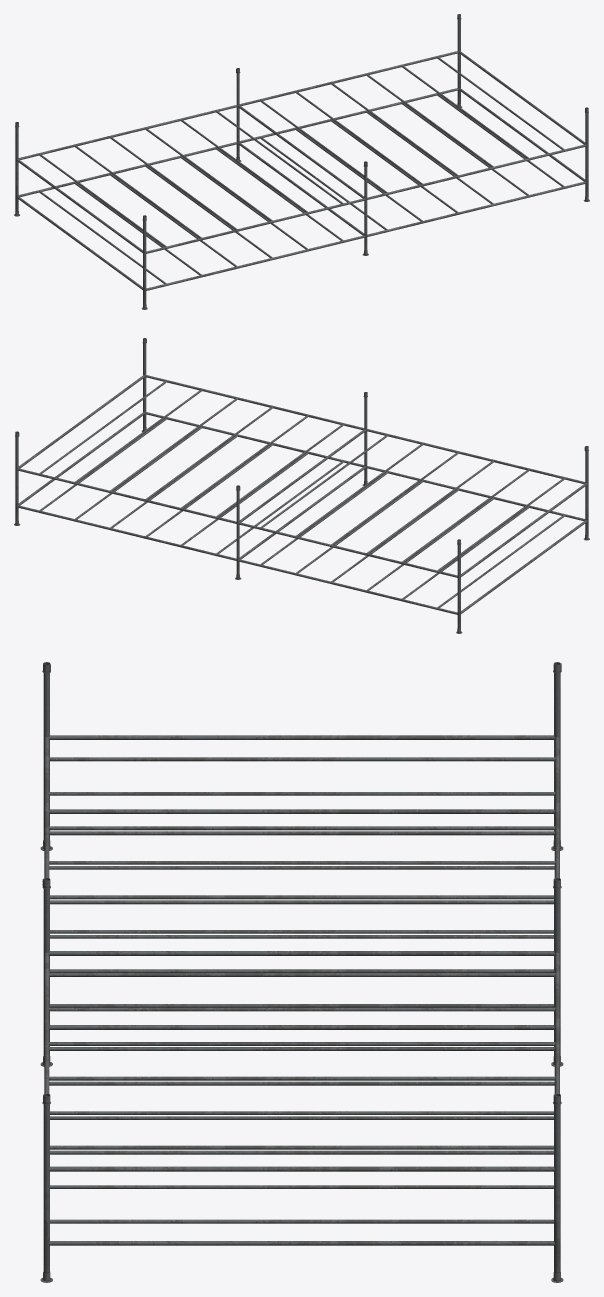
The model's file is SM_MetalPipe_Cage.fbx.
The picture shows the model from 3 angles, top to bottom: view 1: azimuth 30°, elevation 25°; view 2: azimuth 150°, elevation 25°; view 3: azimuth 270°, elevation 25°; orthographic projection. The views are drawn at different scales.
Visible parts, largest first — view 1: SM_MetalPipe_Cage_LOD0; view 2: SM_MetalPipe_Cage_LOD0; view 3: SM_MetalPipe_Cage_LOD0.
Boxes of the visible parts, bbox=[...] form: SM_MetalPipe_Cage_LOD0: bbox=[14, 14, 589, 309]; SM_MetalPipe_Cage_LOD0: bbox=[14, 338, 589, 633]; SM_MetalPipe_Cage_LOD0: bbox=[40, 662, 563, 1282].
Size of the model in its own units: 1012 by 512 by 200.
1 material, 1 textured.
